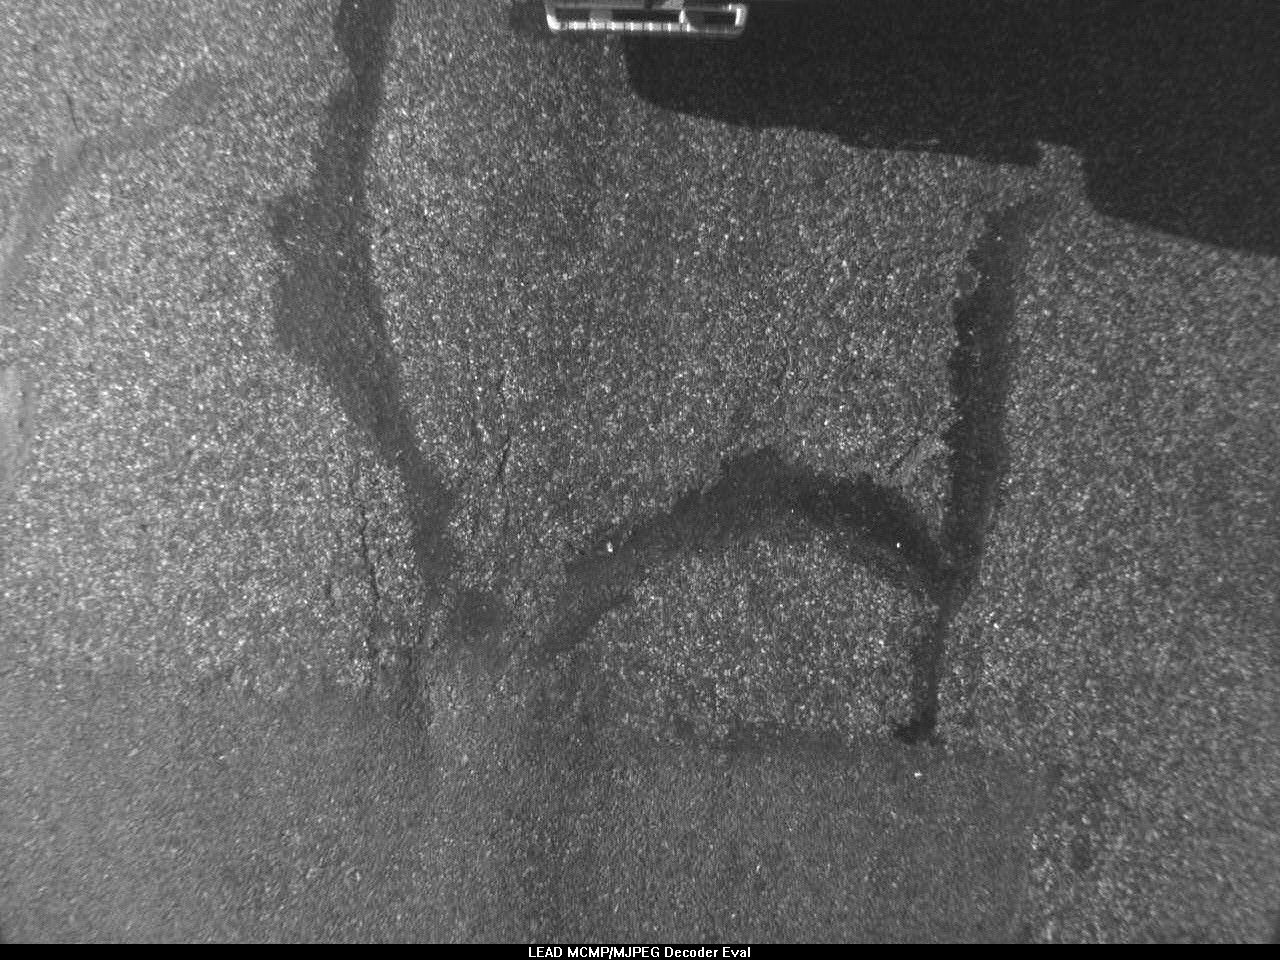sealed: (508, 235, 1017, 671), (267, 1, 470, 631)
